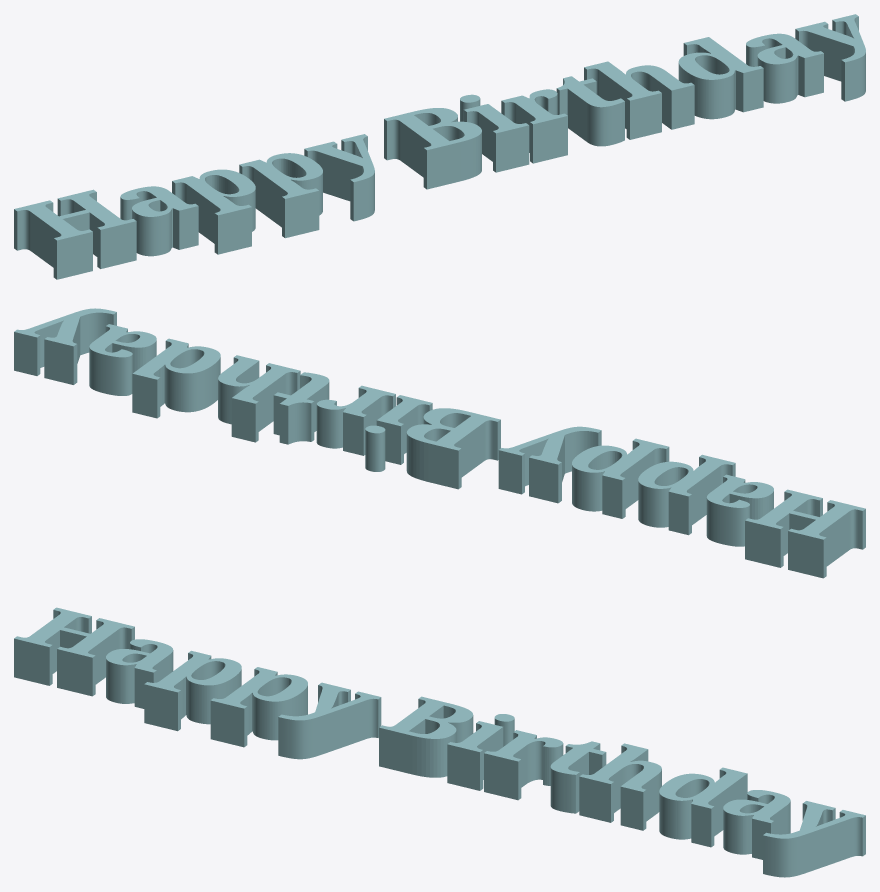
3 renders of one model, top to bottom at view 1: azimuth 30°, elevation 25°; view 2: azimuth 150°, elevation 25°; view 3: azimuth 330°, elevation 25°, orthographic.
Visible parts, largest first — view 1: Mesh_Mesh_head_geo.001_lambert2SG.001; view 2: Mesh_Mesh_head_geo.001_lambert2SG.001; view 3: Mesh_Mesh_head_geo.001_lambert2SG.001.
Part boxes in pixels (x1,y1,x2,y2): Mesh_Mesh_head_geo.001_lambert2SG.001: (14,14,865,279); Mesh_Mesh_head_geo.001_lambert2SG.001: (14,308,865,578); Mesh_Mesh_head_geo.001_lambert2SG.001: (14,607,865,877).
Size of the model in its own units: 221 by 10 by 28.06.
